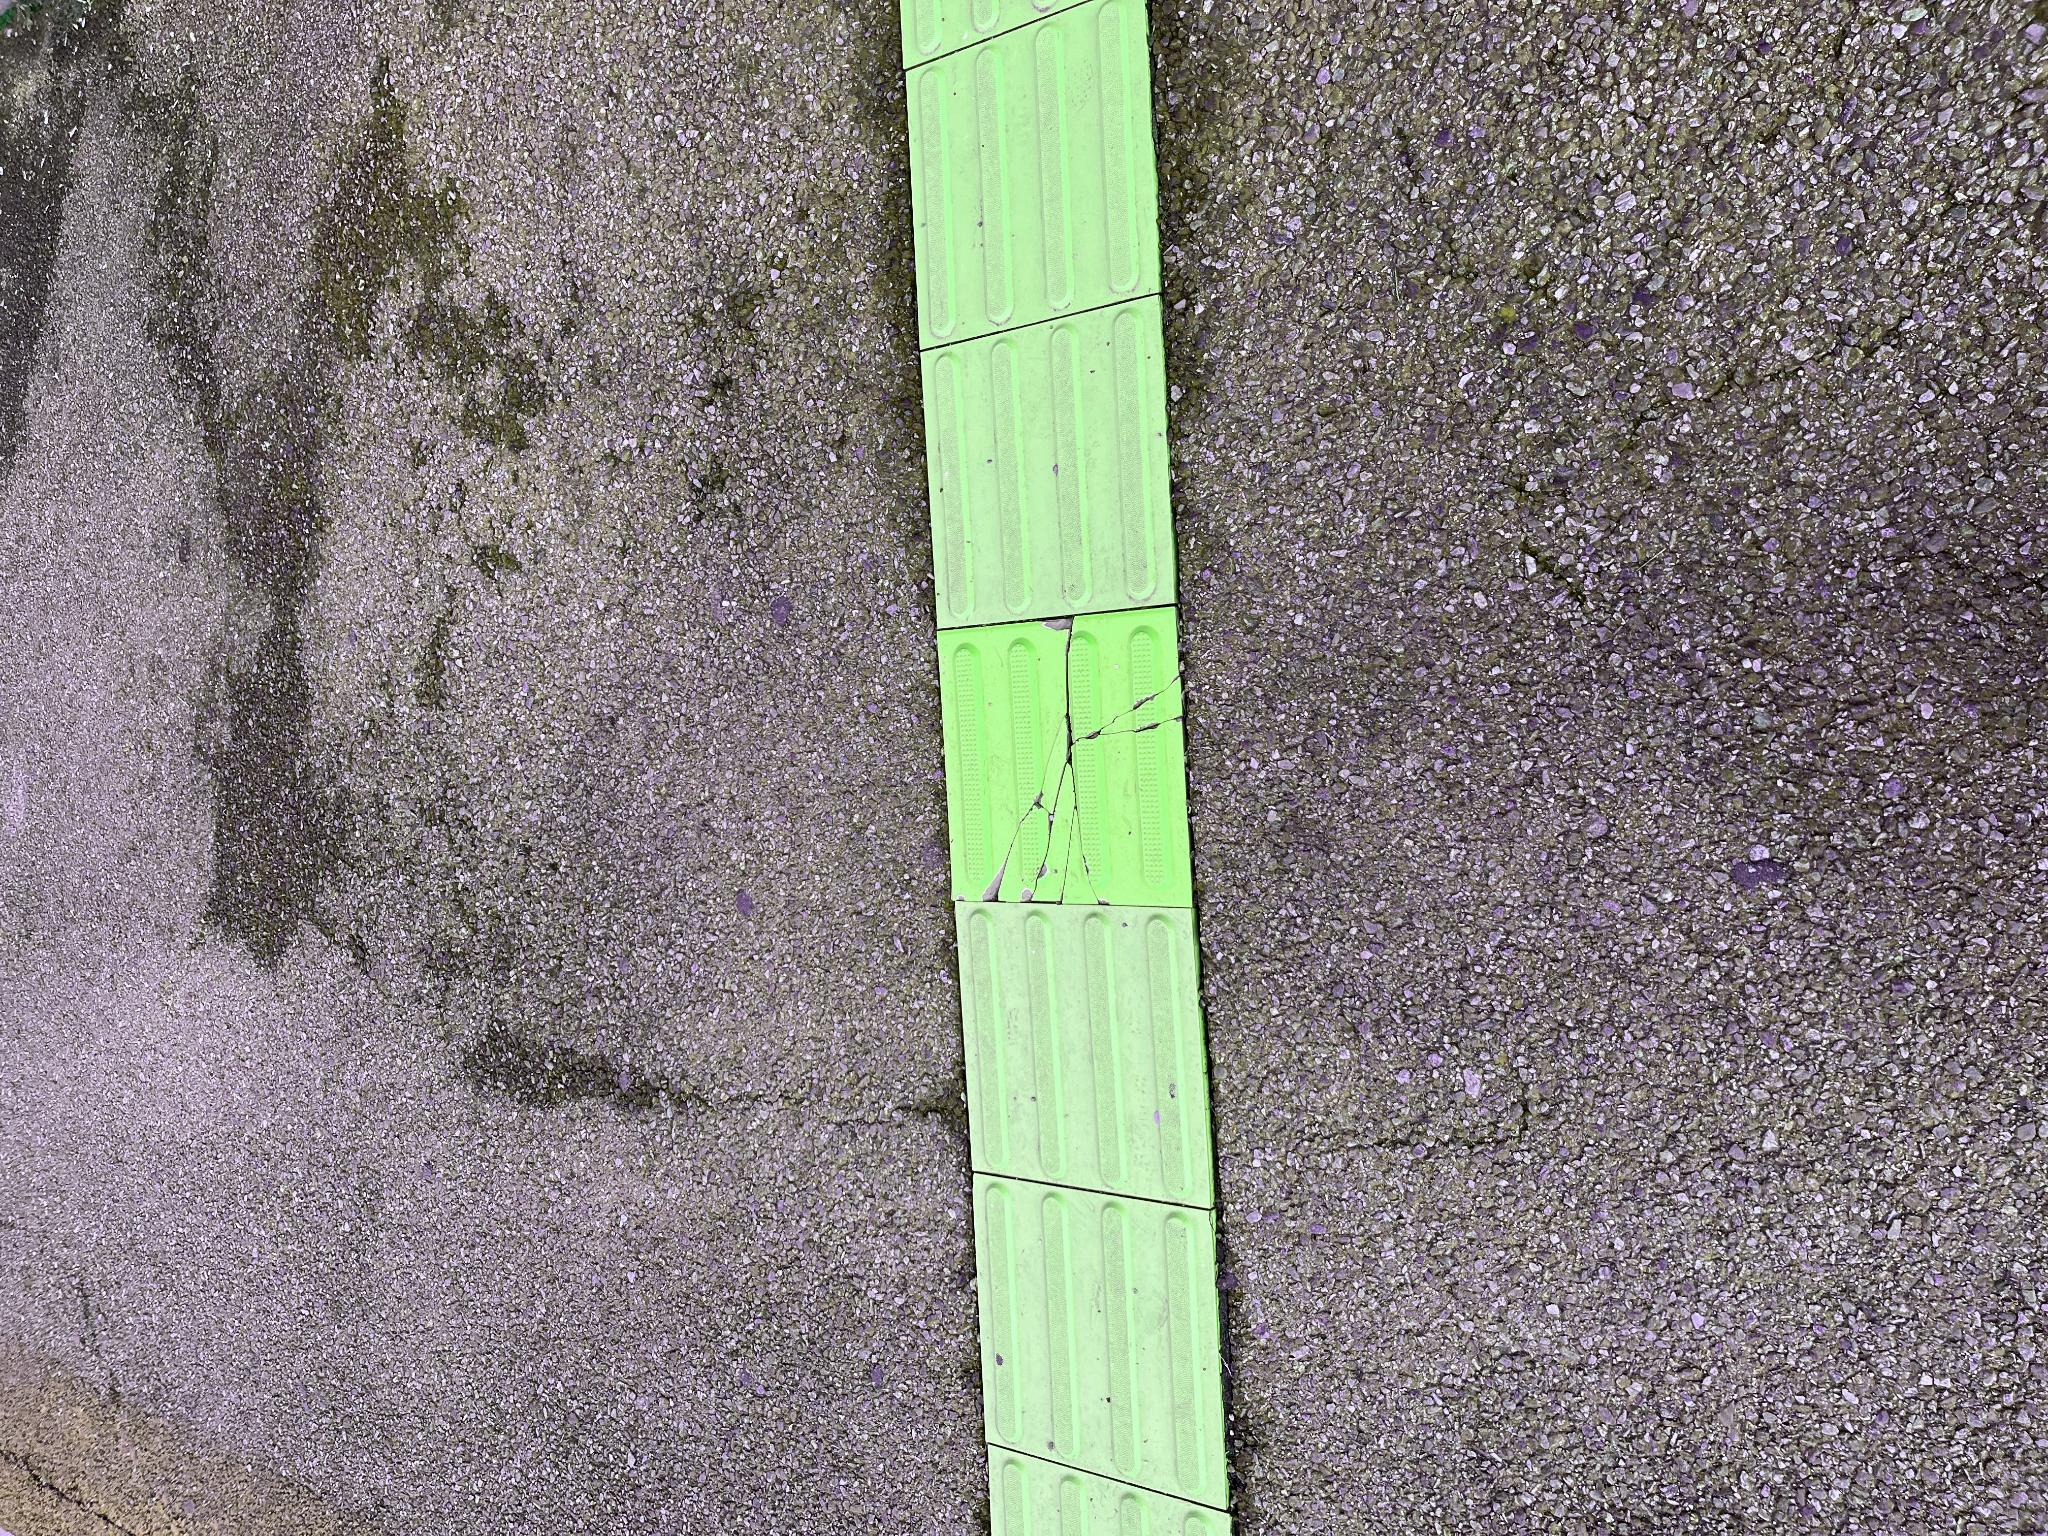Straight block broken: (632, 941, 930, 1191)
Straight block normal: (910, 921, 1240, 1171), (331, 958, 632, 1212)
